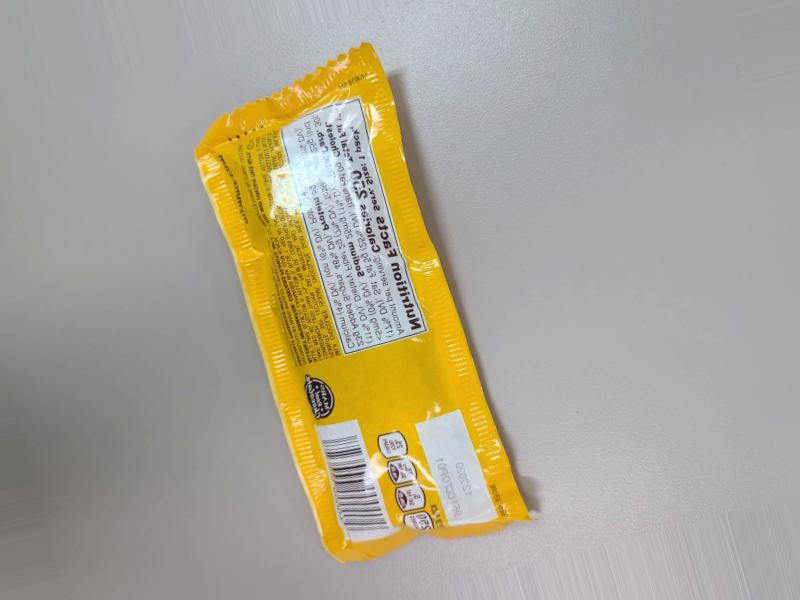m&m: (191, 79, 519, 600)
